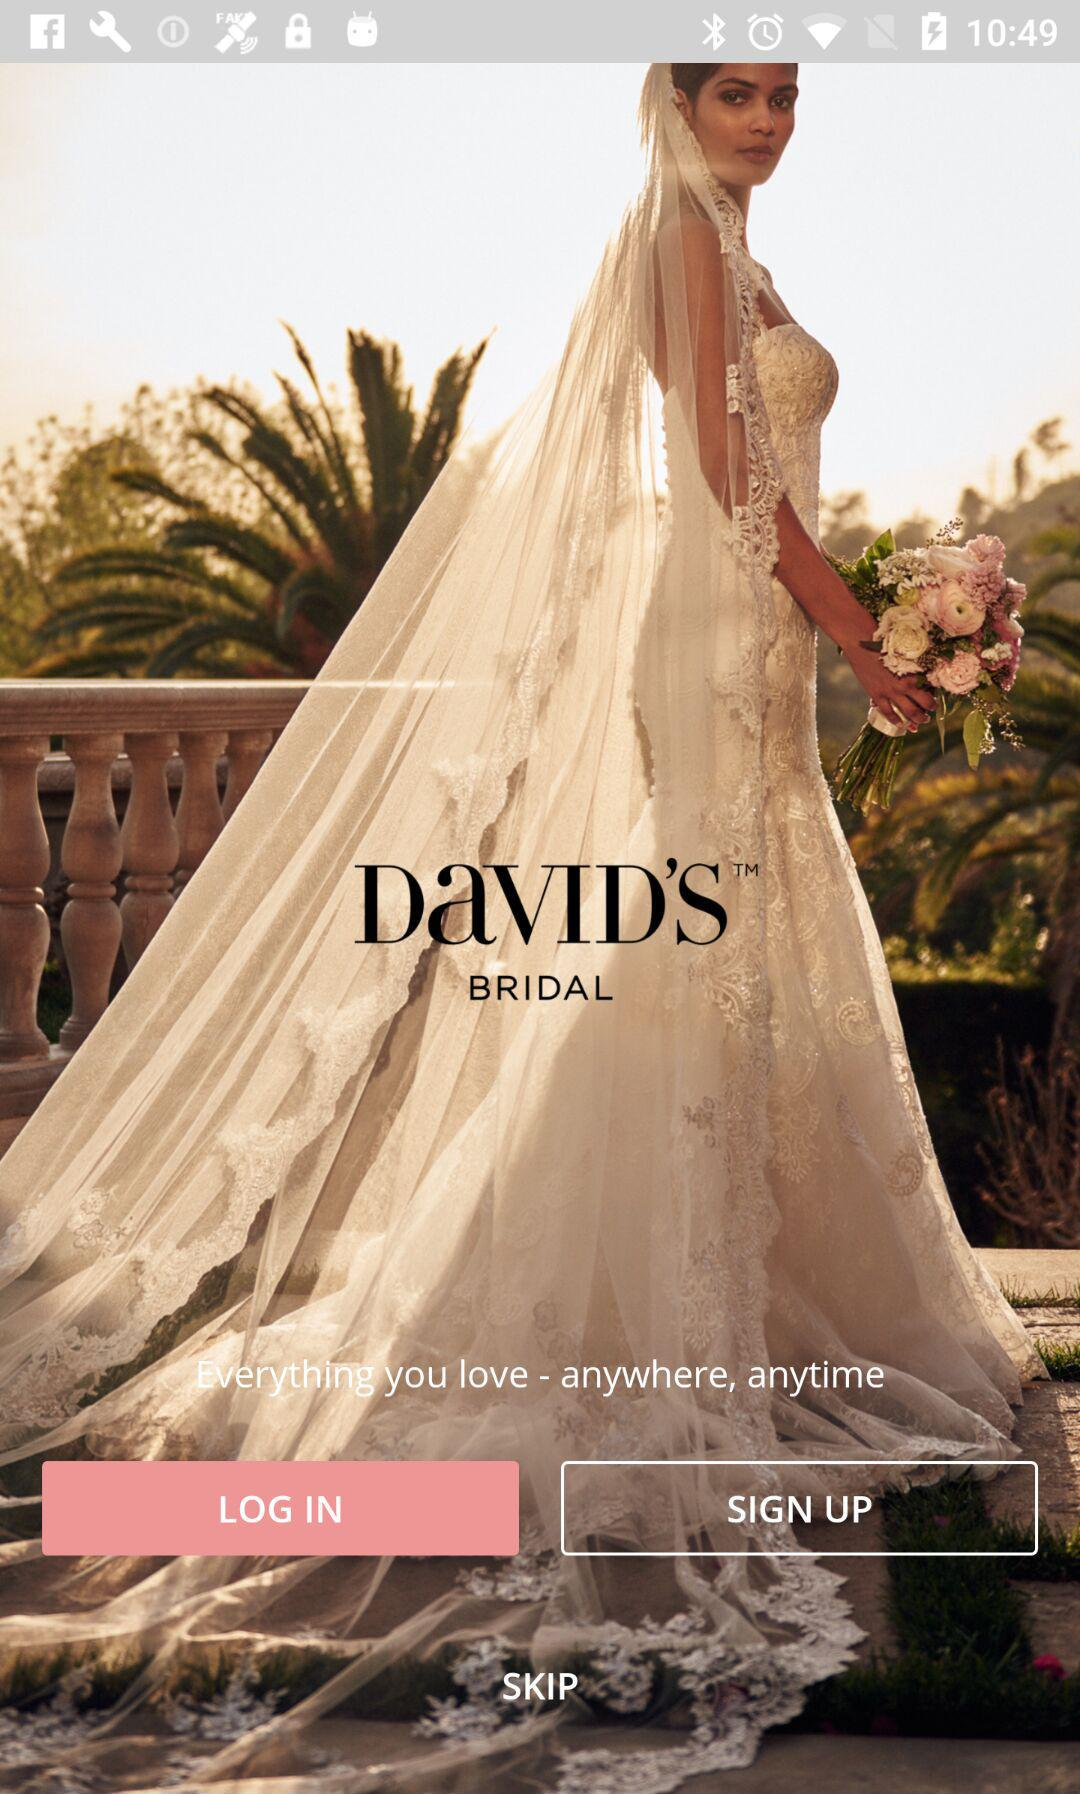BackgroundImage: (1, 64, 1080, 1794)
Image: (354, 857, 760, 947)
Text: (197, 1357, 885, 1399), (469, 973, 615, 1002), (502, 1672, 579, 1702)
TextButton: (42, 1460, 520, 1556), (561, 1461, 1039, 1557)
UpperTaskBar: (1, 1, 1080, 64)
